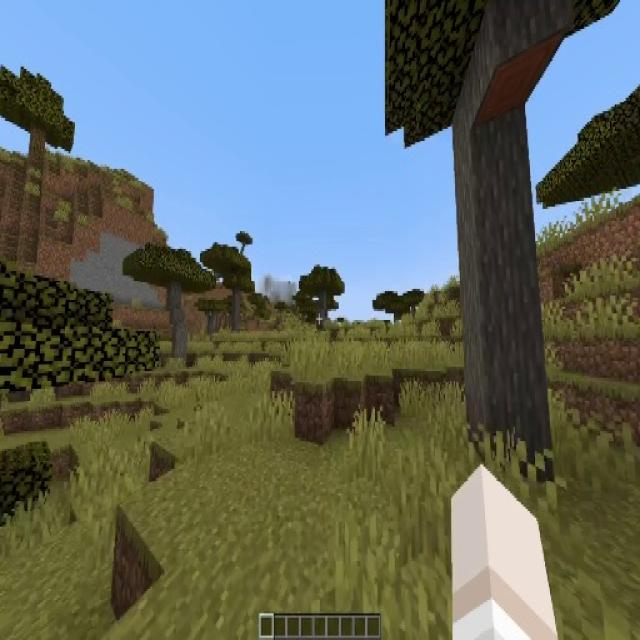acacia: (381, 2, 634, 479), (129, 242, 210, 354), (199, 242, 255, 331), (298, 265, 345, 334)
acacia_log: (458, 80, 544, 478), (169, 289, 187, 358), (232, 289, 240, 331), (316, 306, 324, 328), (320, 292, 326, 310)
oak: (0, 64, 76, 156), (30, 123, 46, 154)
